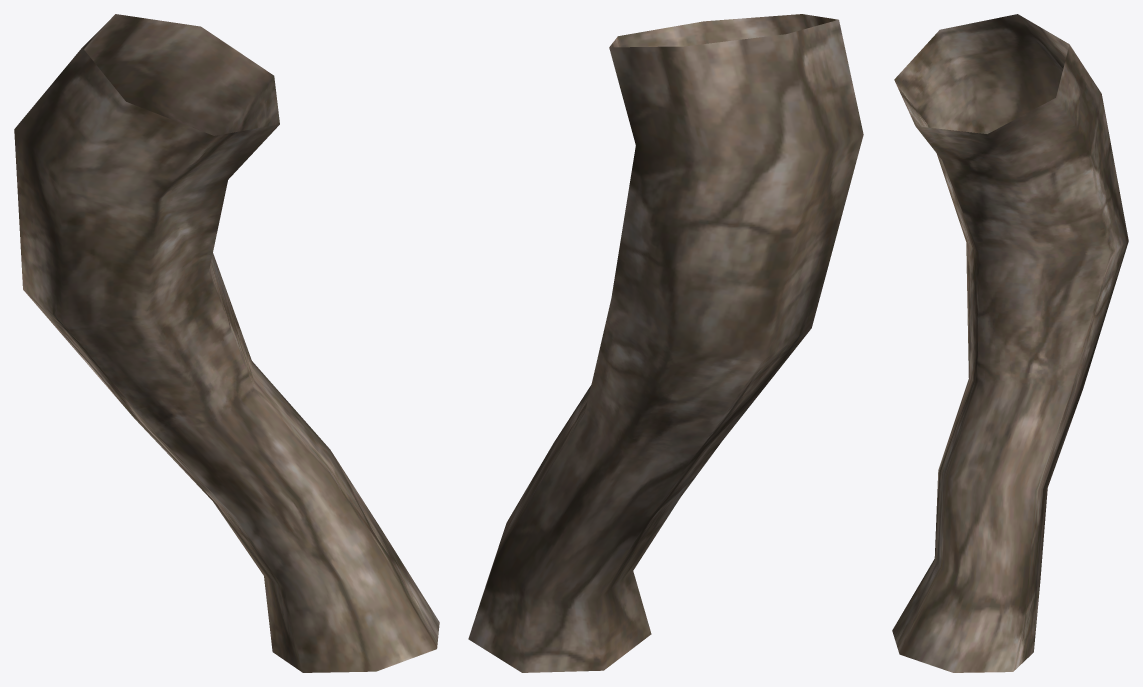
File: EKH_JAIL_PS_JA_PILLAR93911.fbx
3 renders of one model, left to right at view 1: azimuth 30°, elevation 25°; view 2: azimuth 150°, elevation 25°; view 3: azimuth 270°, elevation 25°, orthographic. The views are drawn at different scales.
Visible parts, largest first — view 1: EKH_JAIL_PS_JA_PILLAR93911; view 2: EKH_JAIL_PS_JA_PILLAR93911; view 3: EKH_JAIL_PS_JA_PILLAR93911.
Boxes of the visible parts, box(x1,y1,x2,y2) form: EKH_JAIL_PS_JA_PILLAR93911: box(14, 14, 439, 672); EKH_JAIL_PS_JA_PILLAR93911: box(468, 14, 863, 672); EKH_JAIL_PS_JA_PILLAR93911: box(892, 14, 1128, 672).
Bounding box in the file's own units: 31119 × 52105 × 20636.
1 material, 1 textured.
